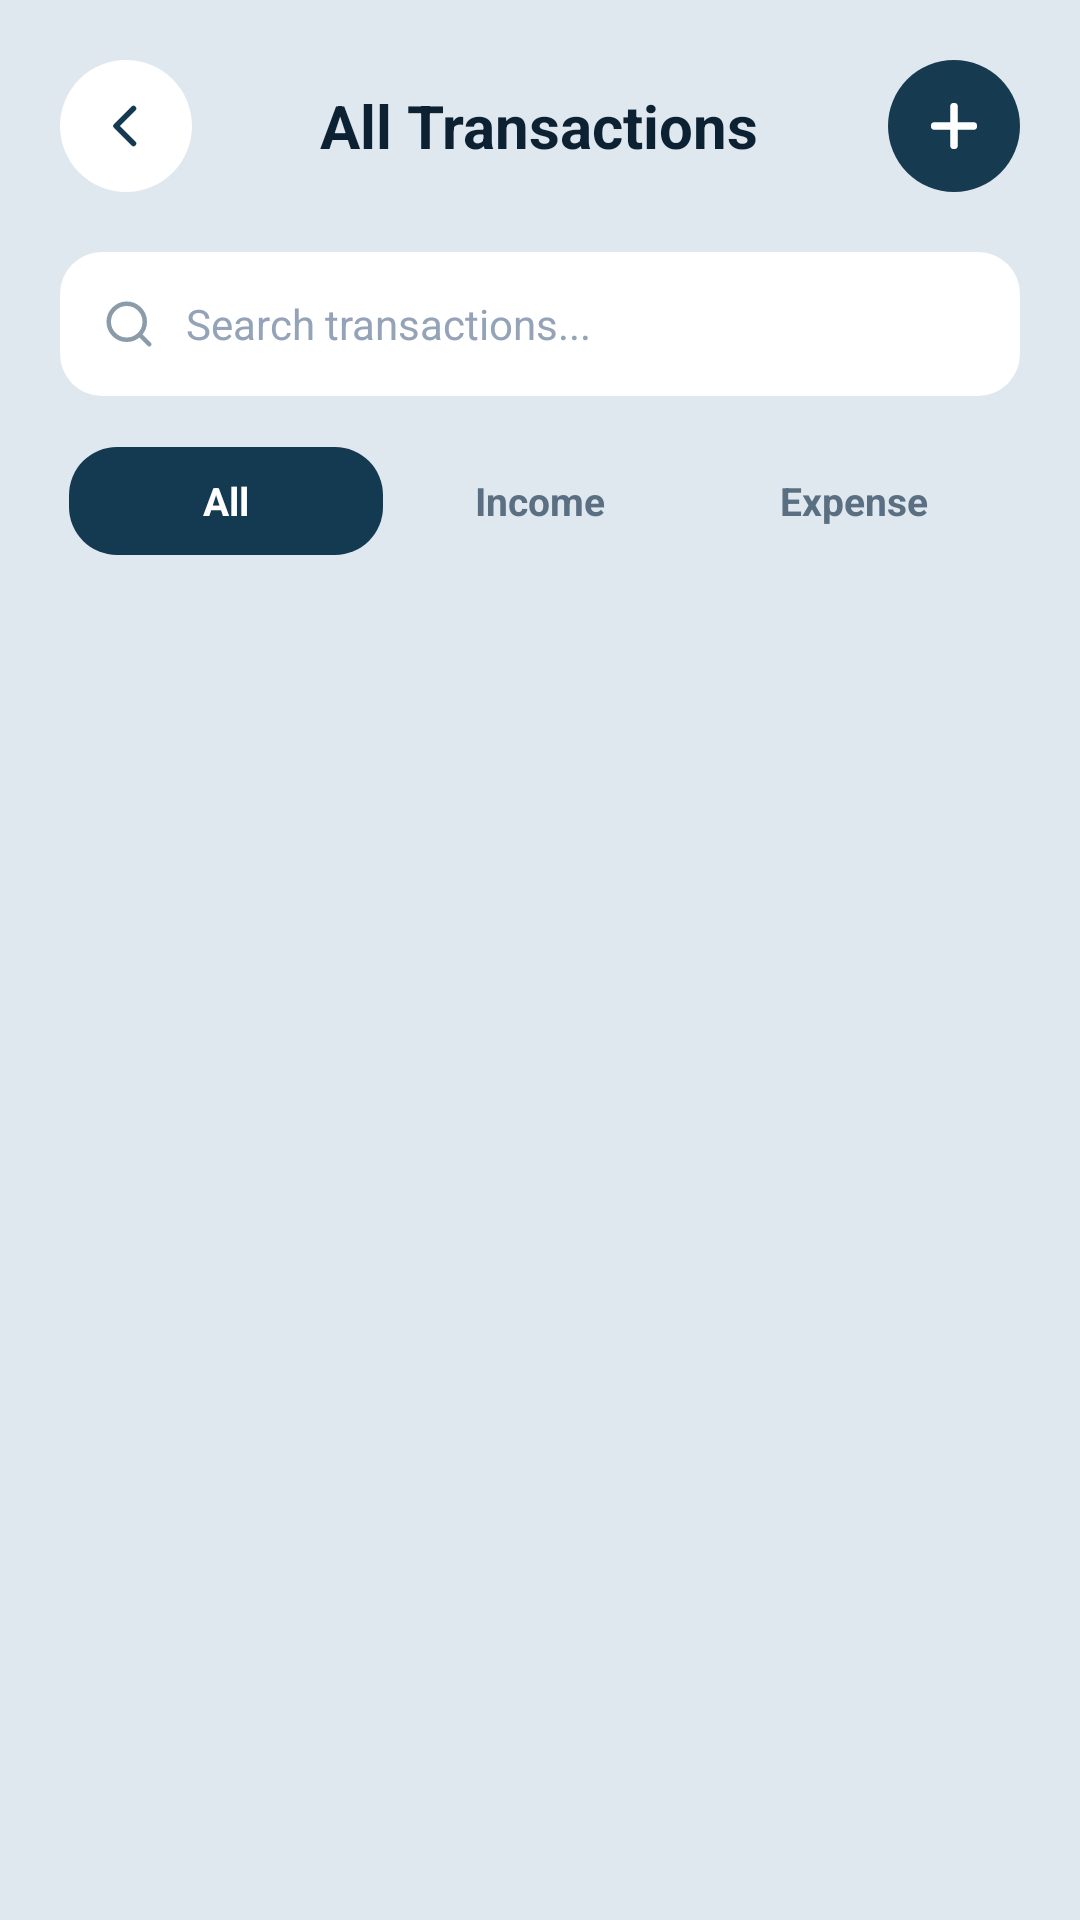

Icon click points for this 1080*1920 phone screenshot, format [x,y]:
Add Transaction: [954,126]
Back: [126,126]
